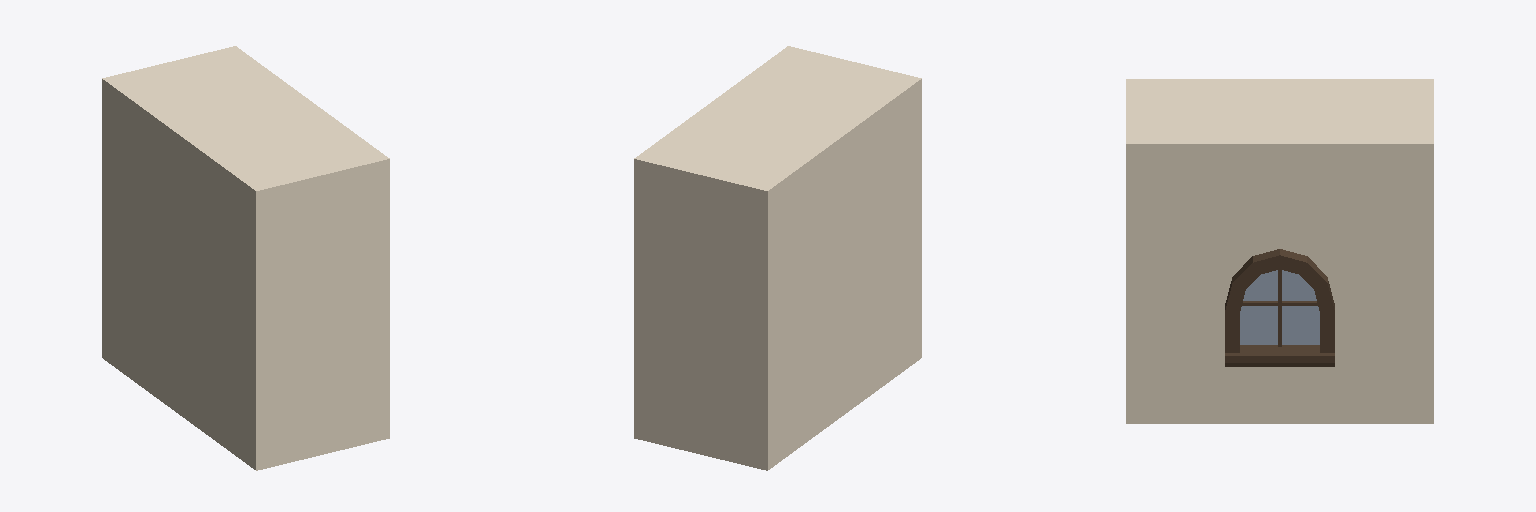
The model's file is Stucco_Window_Rounded_Wide_Tall.obj.
3 renders of one model, left to right at view 1: azimuth 30°, elevation 25°; view 2: azimuth 150°, elevation 25°; view 3: azimuth 270°, elevation 25°, orthographic.
Visible parts, largest first — view 1: object2; view 2: object2; view 3: object2, object3, object1.
Part boxes in pixels (left/top/right/bottom): object2: left=102, top=46, right=389, bottom=470; object2: left=634, top=46, right=921, bottom=470; object2: left=1126, top=79, right=1433, bottom=423; object3: left=1225, top=249, right=1334, bottom=366; object1: left=1242, top=269, right=1317, bottom=346.
Size of the model in its own units: 1.15 by 2 by 2.